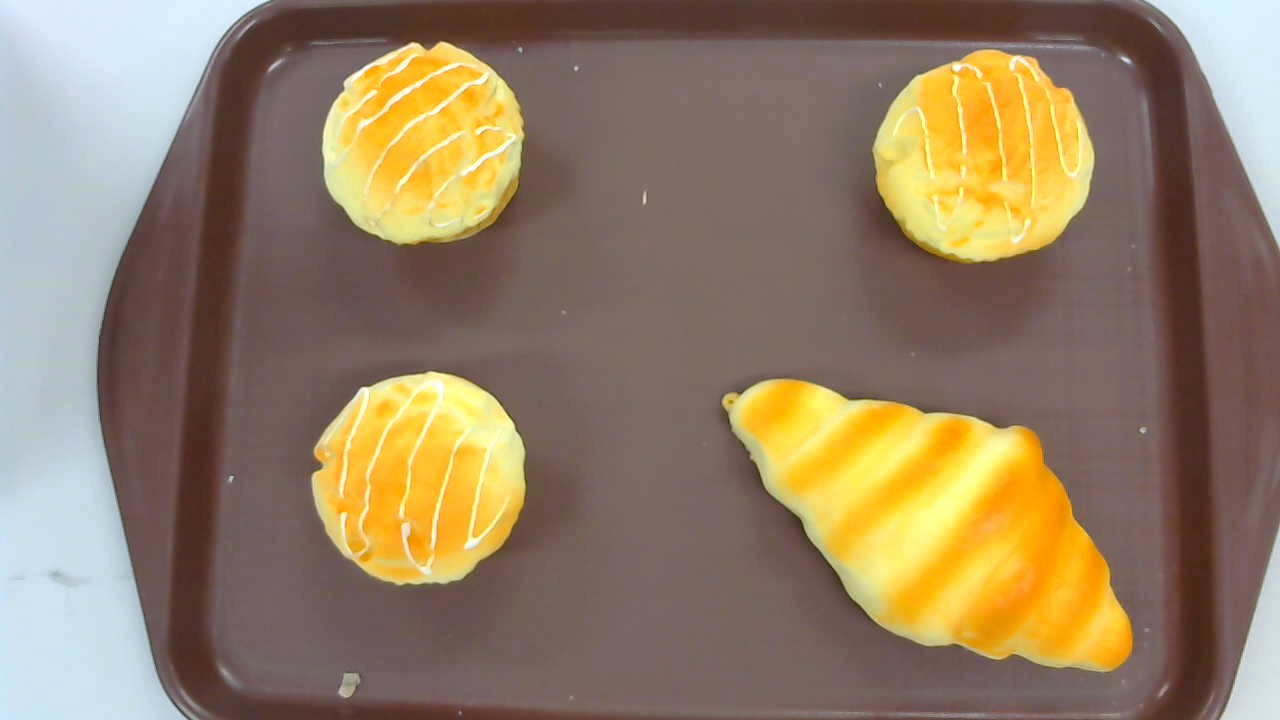croissant: (722, 377, 1133, 673)
cupcake: (872, 47, 1095, 266), (310, 370, 526, 586), (322, 41, 527, 247)
